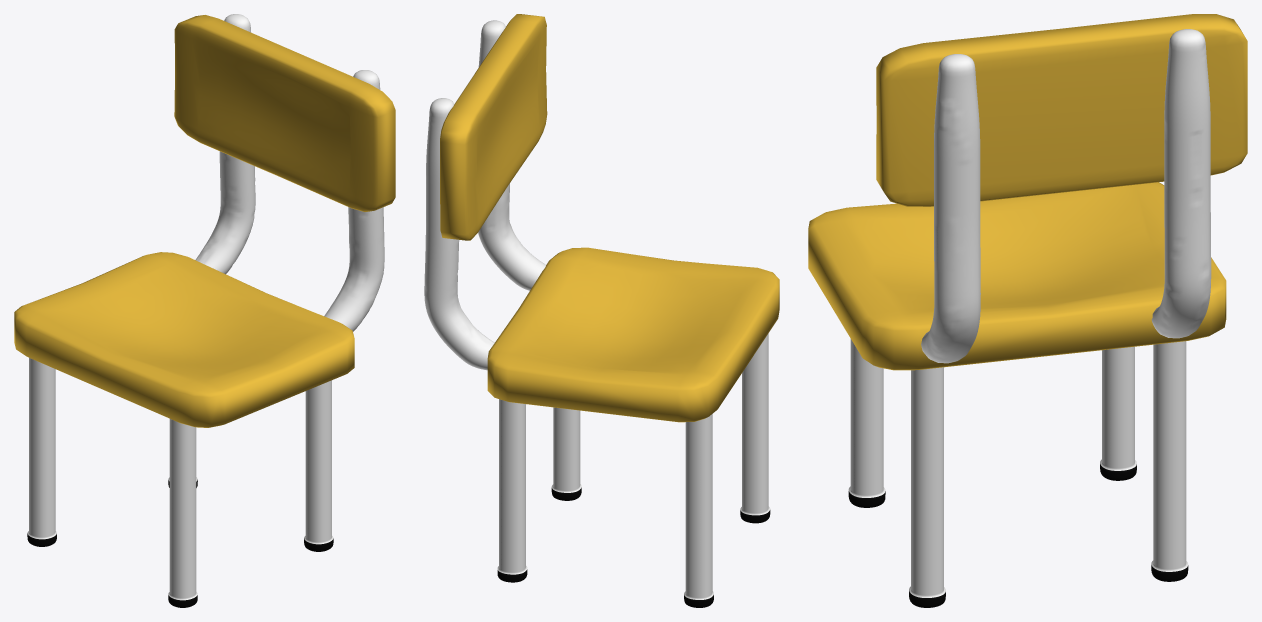
File: yellow_chair.glb
The picture shows the model from 3 angles, left to right: view 1: azimuth 30°, elevation 25°; view 2: azimuth 150°, elevation 25°; view 3: azimuth 270°, elevation 25°; orthographic projection. The views are drawn at different scales.
Visible parts, largest first — view 1: Cube.024_jaune_0, Cube.025_jaune_0, Plane.022_metal_0, Plane.023_metal_0, Plane.019_metal_0, Plane.018_metal_0, Plane.021_metal_0; view 2: Cube.024_jaune_0, Cube.025_jaune_0, Plane.018_metal_0, Plane.023_metal_0, Plane.020_metal_0, Plane.022_metal_0, Plane.019_metal_0, Plane.021_metal_0; view 3: Cube.024_jaune_0, Cube.025_jaune_0, Plane.018_metal_0, Plane.019_metal_0, Plane.020_metal_0, Plane.021_metal_0, Plane.022_metal_0, Plane.023_metal_0.
Boxes of the visible parts, x1,y1,x2,y2 form: Cube.024_jaune_0: [14, 252, 354, 427]; Cube.025_jaune_0: [174, 15, 395, 211]; Plane.022_metal_0: [168, 419, 197, 600]; Plane.023_metal_0: [27, 358, 56, 539]; Plane.019_metal_0: [324, 70, 384, 331]; Plane.018_metal_0: [195, 14, 255, 274]; Plane.021_metal_0: [304, 380, 333, 544]; Cube.024_jaune_0: [487, 247, 779, 422]; Cube.025_jaune_0: [440, 14, 547, 240]; Plane.018_metal_0: [424, 98, 494, 370]; Plane.023_metal_0: [684, 414, 713, 599]; Plane.020_metal_0: [497, 399, 527, 574]; Plane.022_metal_0: [740, 333, 770, 515]; Plane.019_metal_0: [478, 20, 545, 290]; Plane.021_metal_0: [551, 407, 581, 492]; Cube.024_jaune_0: [808, 182, 1226, 370]; Cube.025_jaune_0: [876, 14, 1247, 206]; Plane.018_metal_0: [1151, 29, 1211, 338]; Plane.019_metal_0: [921, 54, 980, 363]; Plane.020_metal_0: [1151, 341, 1188, 571]; Plane.021_metal_0: [909, 367, 945, 597]; Plane.022_metal_0: [848, 339, 885, 497]; Plane.023_metal_0: [1100, 346, 1136, 470].
Size of the model in its own units: 2.1 by 3.1 by 2.11.
